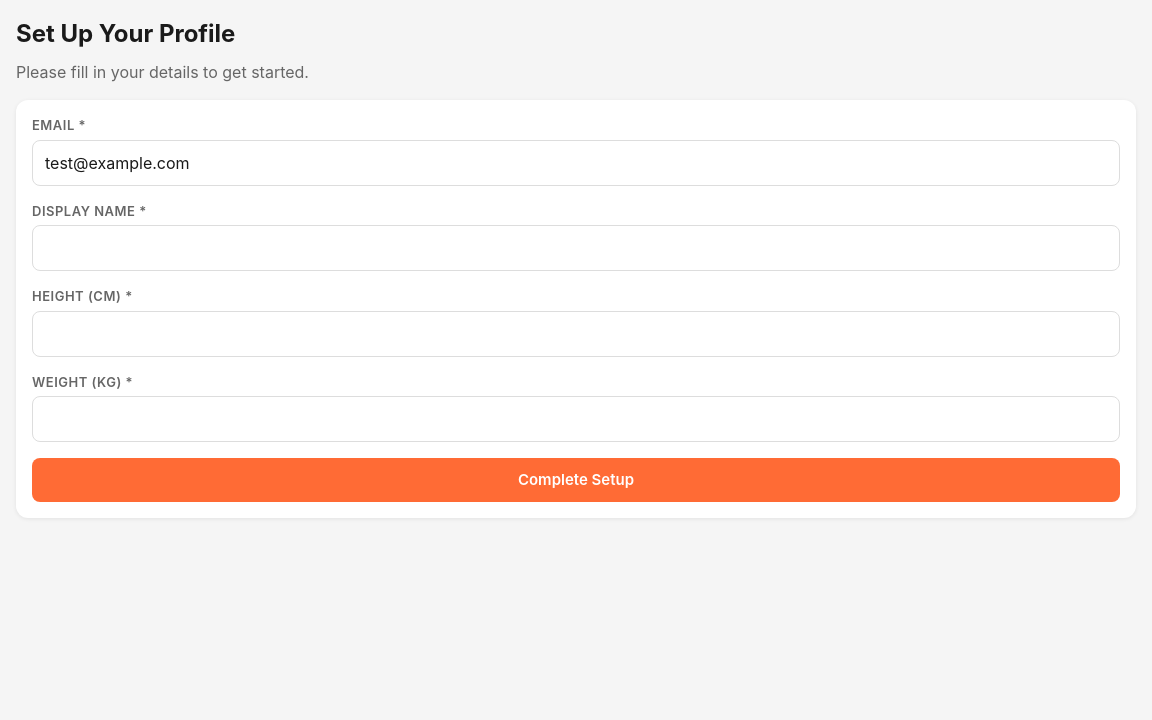
Test: ProfileSetupPage › disables button while saving
In the field labelled "Display Name *": (576, 248) [32,225,1120,271], type "Test User"
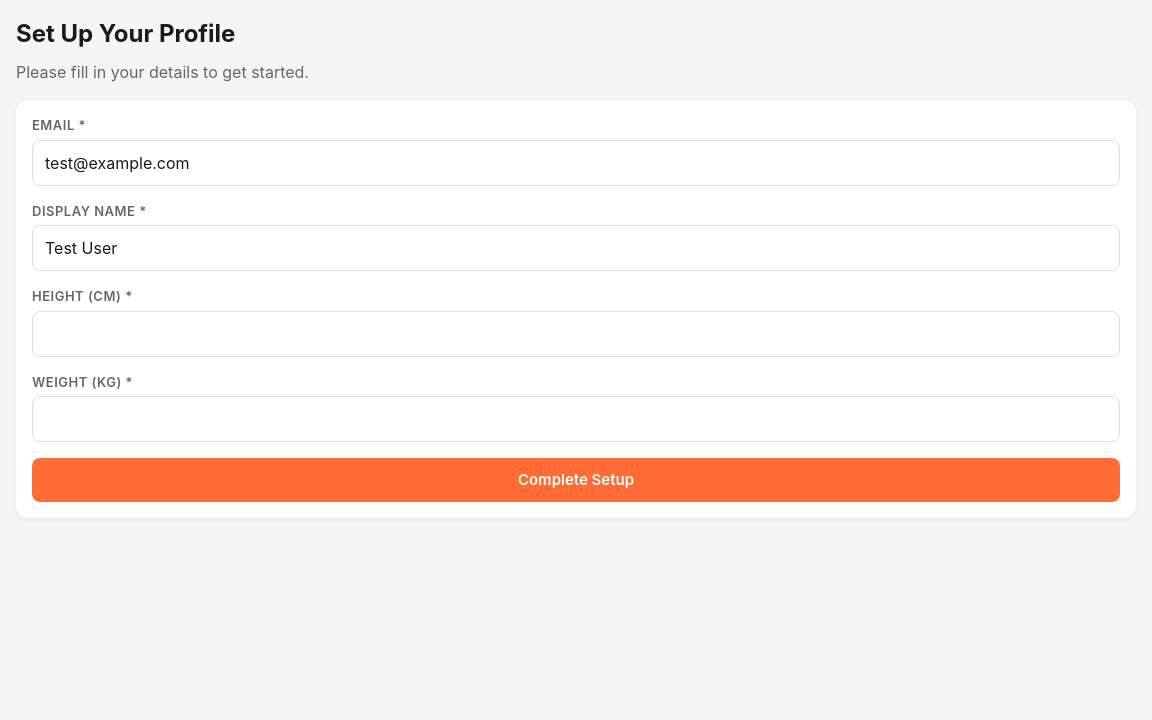
In the number field labelled "Height (cm) *": (576, 334) [32,310,1120,356], type "180"
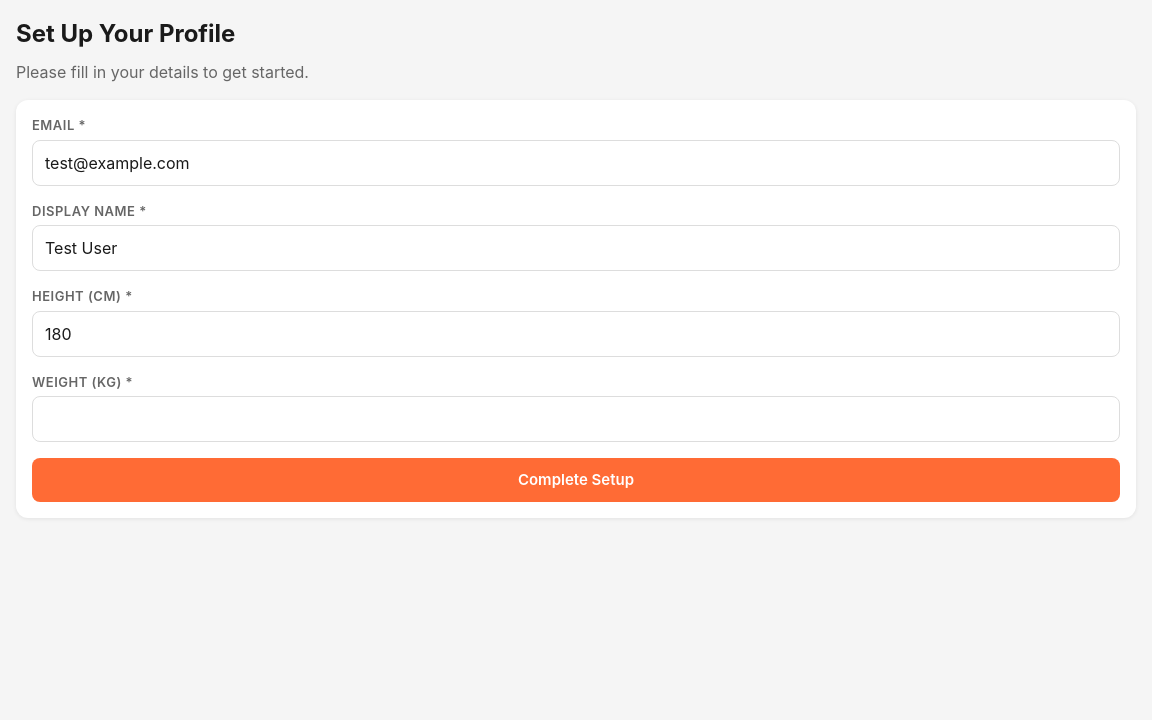
In the number field labelled "Weight (kg) *": (576, 419) [32,396,1120,442], type "75"
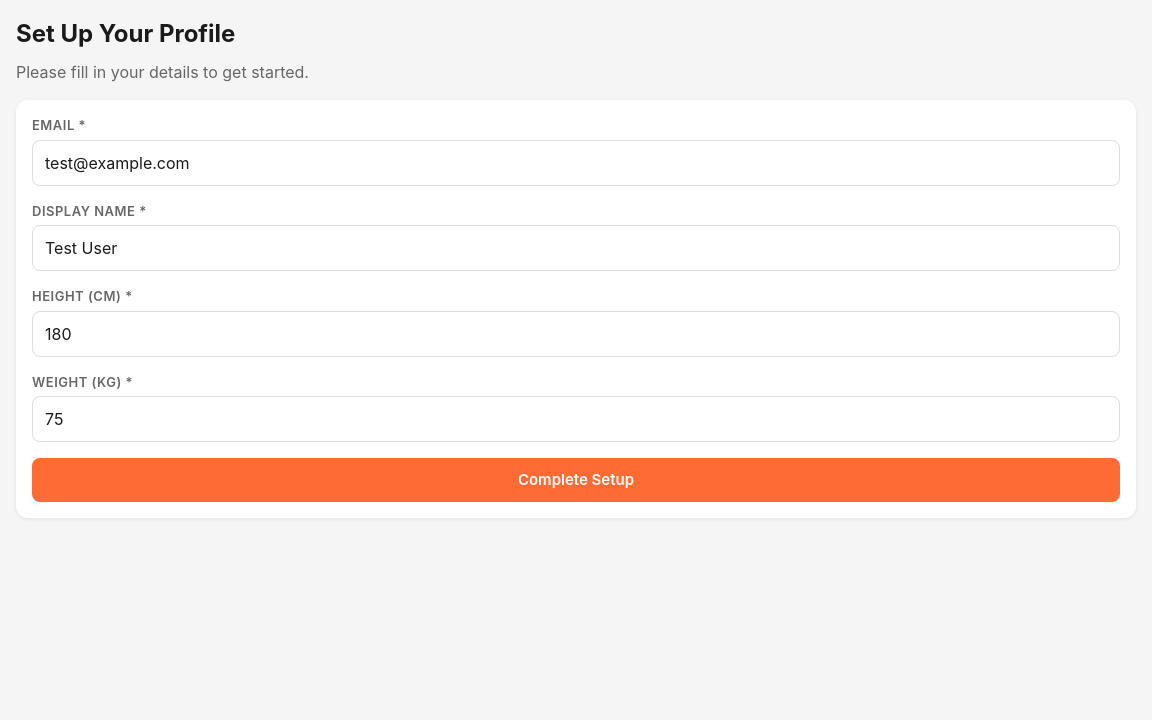
Submit the text "Complete Setup", box [16,100,1136,518]
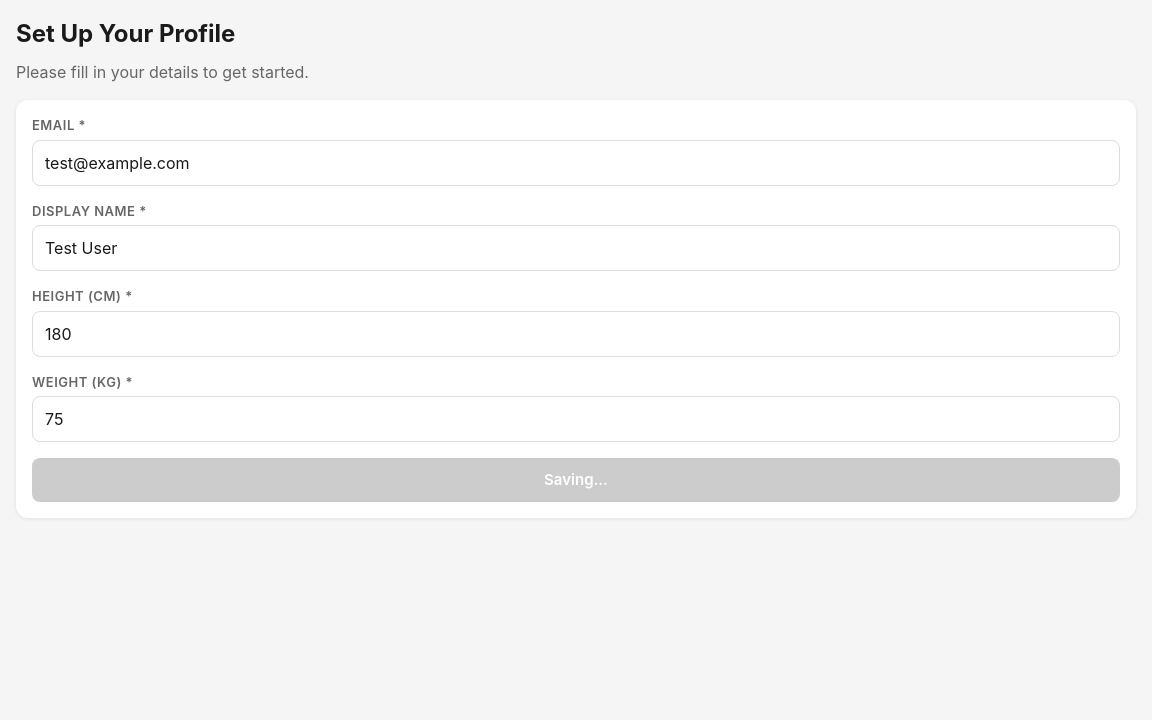
Now the button "Saving..." is disabled, box [32,458,1120,502]
